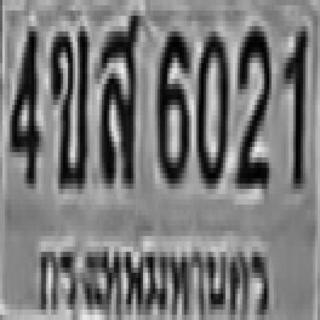A02: (49, 26, 87, 184)
A40: (97, 8, 138, 181)
N00: (195, 26, 227, 184)
N01: (281, 21, 305, 184)
N02: (234, 21, 268, 184)
N04: (7, 21, 39, 184)
N06: (155, 26, 187, 178)
P04: (32, 230, 272, 320)
